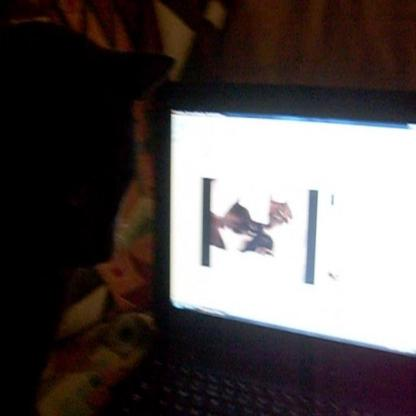board: (88, 78, 416, 415)
